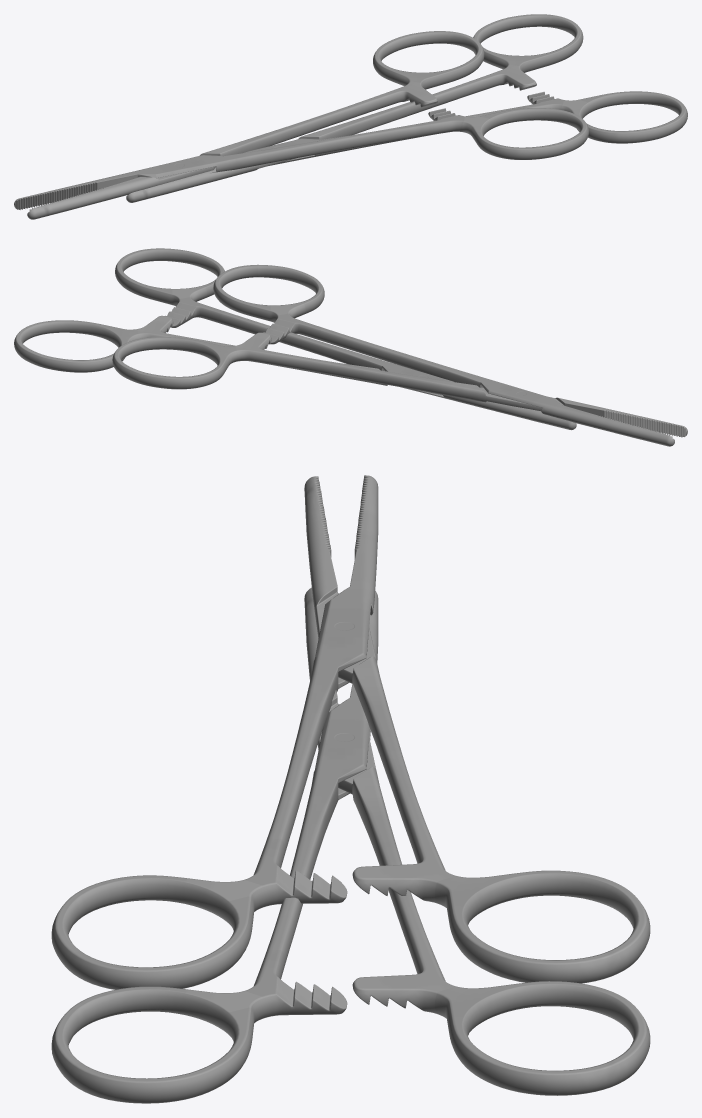
File: instrument_artery_forceps_b01.glb
3 renders of one model, top to bottom at view 1: azimuth 30°, elevation 25°; view 2: azimuth 150°, elevation 25°; view 3: azimuth 270°, elevation 25°, orthographic. The views are drawn at different scales.
Parts seen in each view (by area): view 1: handleRight_01_mesh_00 (×2), handleLeft_01_mesh_00 (×2); view 2: handleLeft_01_mesh_00 (×2), handleRight_01_mesh_00 (×2); view 3: handleLeft_01_mesh_00 (×2), handleRight_01_mesh_00 (×2).
Boxes of the visible parts, x1,y1,x2,y2 form: handleRight_01_mesh_00 (×2): [27, 14, 583, 219]; handleLeft_01_mesh_00 (×2): [14, 91, 687, 209]; handleLeft_01_mesh_00 (×2): [115, 248, 674, 446]; handleRight_01_mesh_00 (×2): [14, 315, 687, 437]; handleLeft_01_mesh_00 (×2): [51, 475, 378, 1103]; handleRight_01_mesh_00 (×2): [304, 476, 650, 1095].
Bounding box in the file's own units: 0.2215 × 0.00738 × 0.0943.
Materials: 1 (1 with a texture image).
